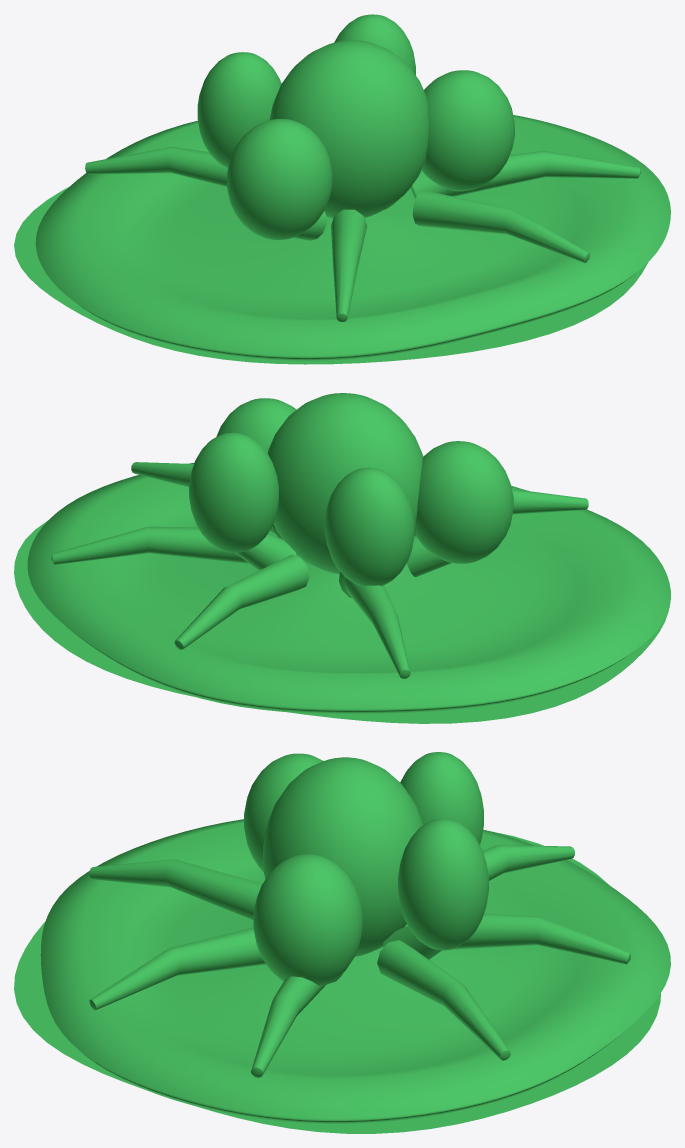
File: gather_growth.glb
3 renders of one model, top to bottom at view 1: azimuth 30°, elevation 25°; view 2: azimuth 150°, elevation 25°; view 3: azimuth 270°, elevation 25°, orthographic. The views are drawn at different scales.
Parts seen in each view (by area): view 1: gather_growth; view 2: gather_growth; view 3: gather_growth.
Part boxes in pixels (left/top/right/bottom): gather_growth: left=14, top=14, right=670, bottom=364; gather_growth: left=14, top=393, right=670, bottom=723; gather_growth: left=14, top=752, right=670, bottom=1133.
Size of the model in its own units: 1.58 by 0.5013 by 1.41.
